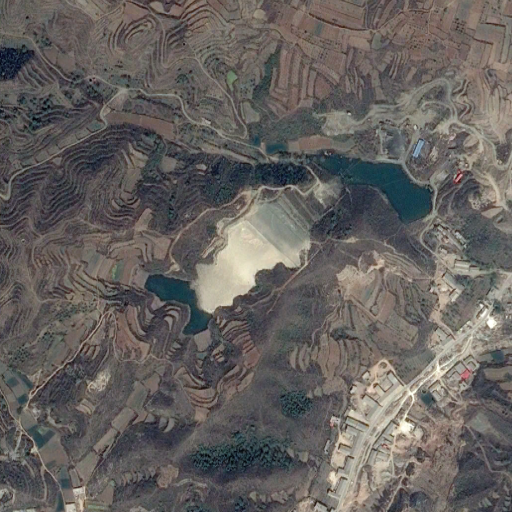tp: (148, 171, 341, 332)
